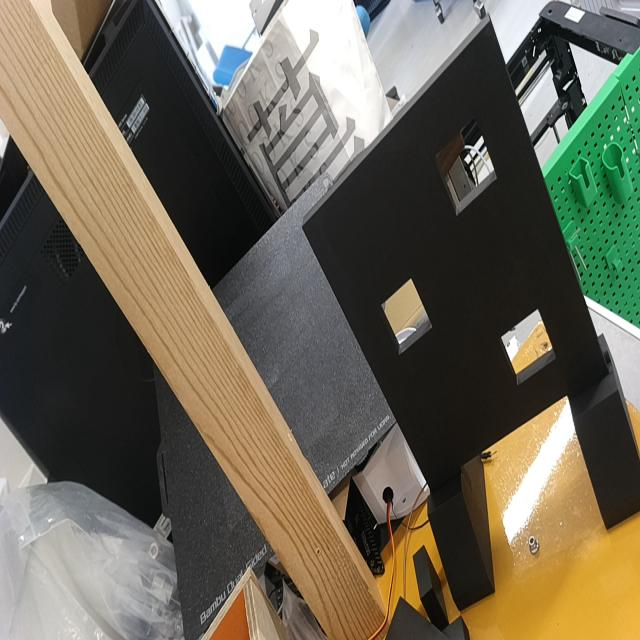Obstacle: (436, 119, 497, 216), (500, 308, 556, 386), (380, 278, 432, 355)
Wall: (302, 21, 605, 490)
